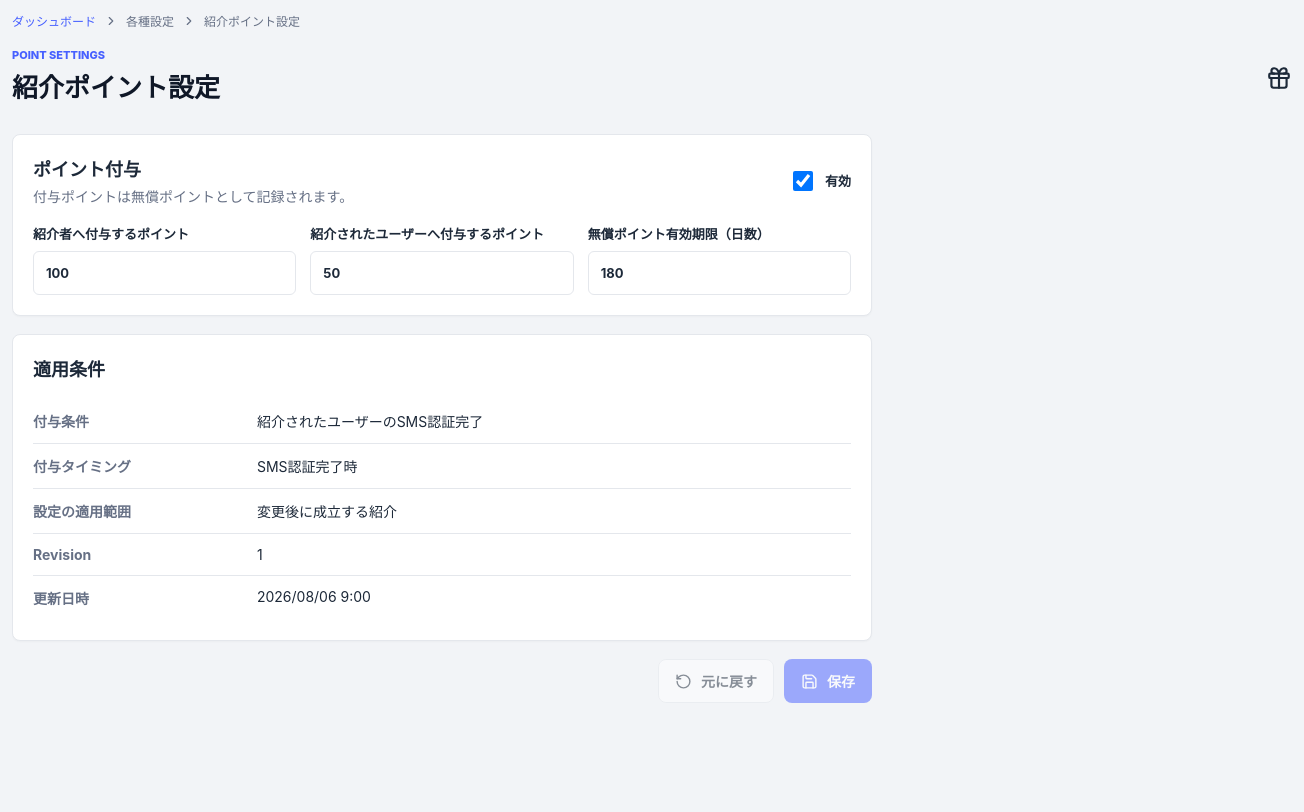
Referral point settings › reports a legacy error without opening a Fresh dialog
Replace the text in the number field labelled "紹介者へ付与するポイント" with "125" at (165, 273), box [33,251,296,295]
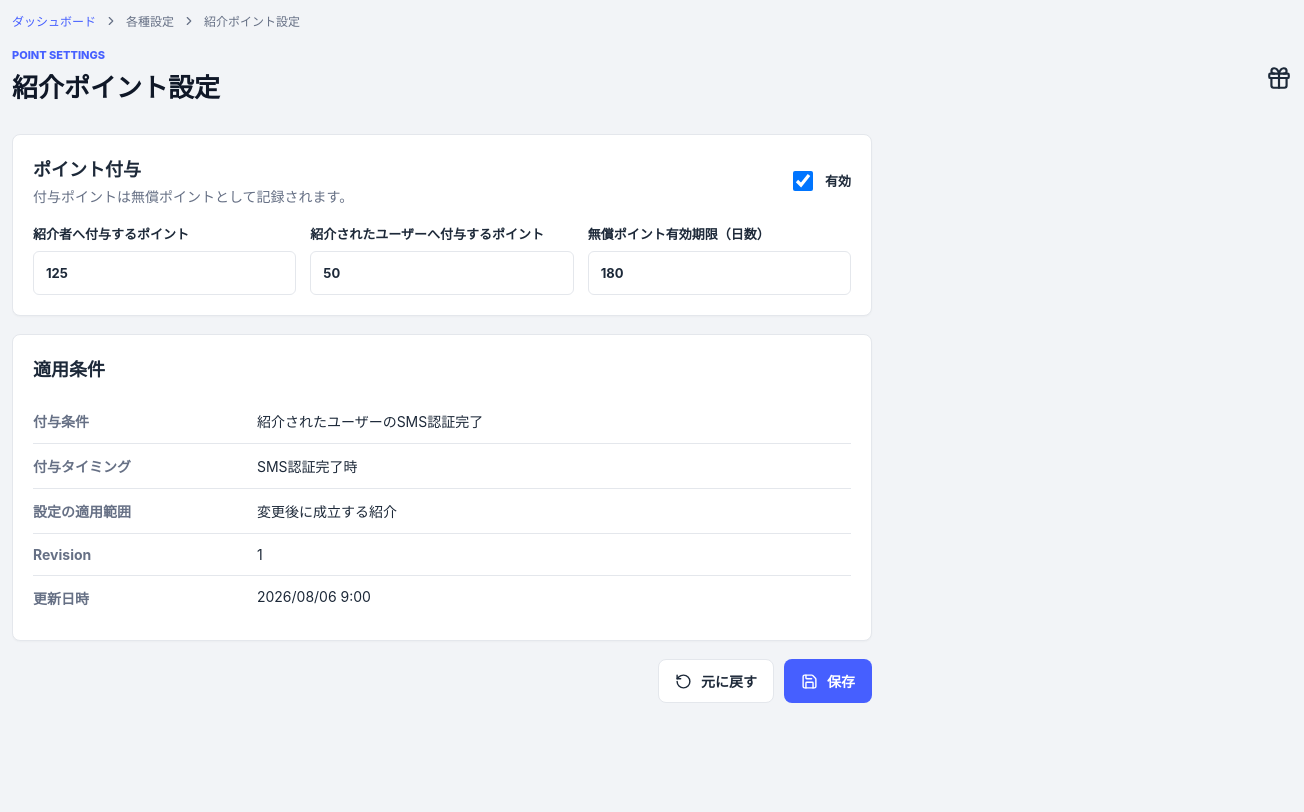
Click the button "保存" at (828, 681), box [784,659,872,703]
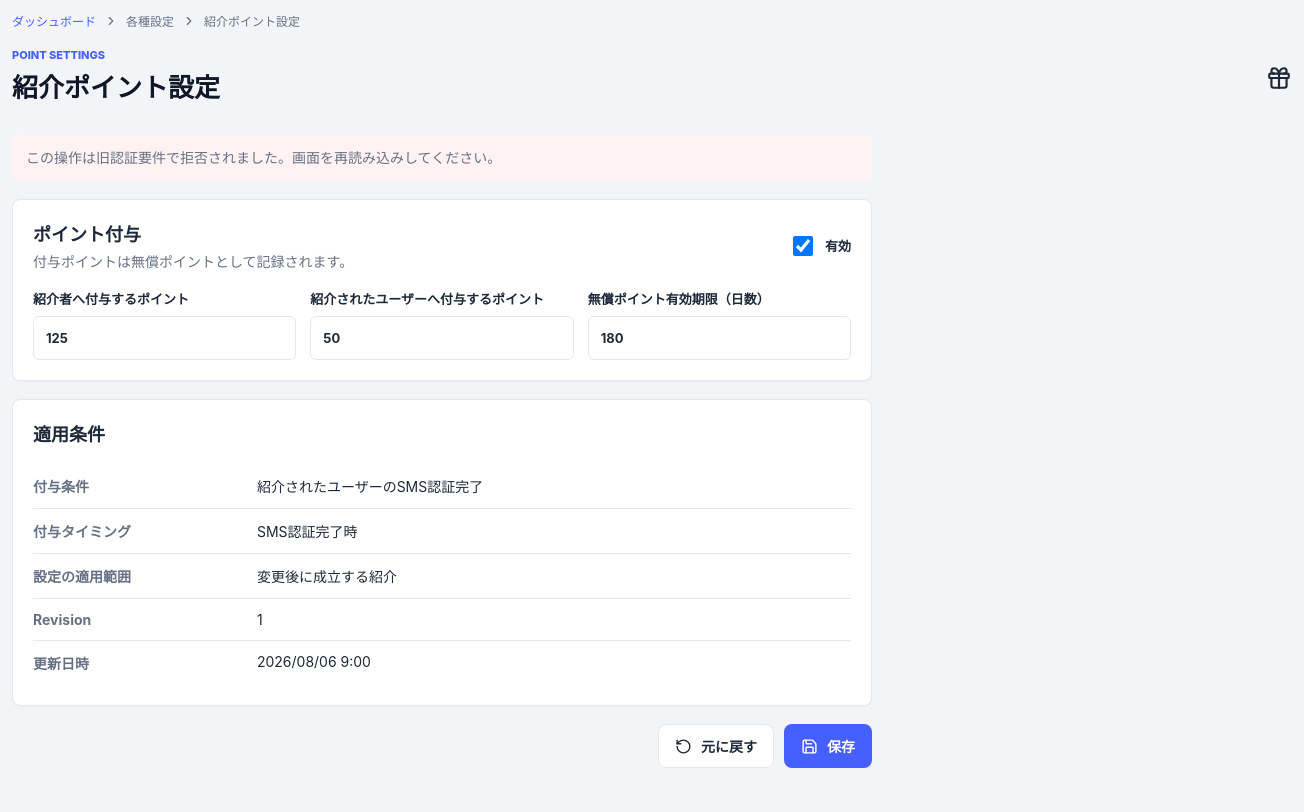
Expected: the message "この操作は旧認証要件で拒否されました。画面を再読み込みしてください。" is shown, [12,134,872,181]
